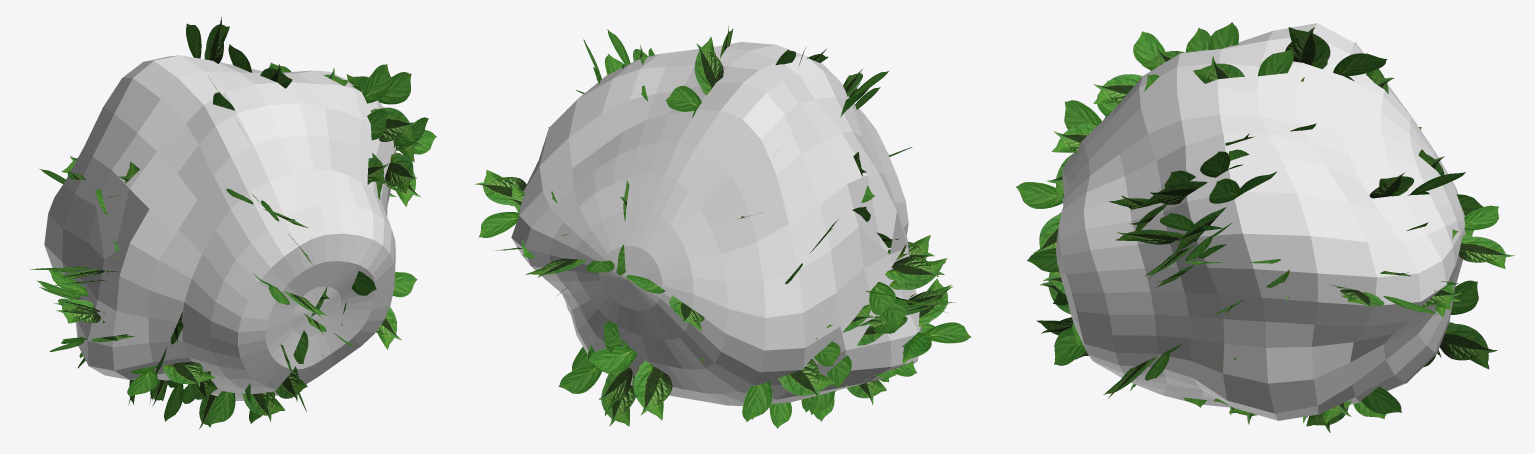
File: куст 1,3.fbx
The picture shows the model from 3 angles, left to right: view 1: azimuth 30°, elevation 25°; view 2: azimuth 150°, elevation 25°; view 3: azimuth 270°, elevation 25°; orthographic projection. The views are drawn at different scales.
Parts seen in each view (by area): view 1: Сфера, Сфера|Плоскость|Dupli|; view 2: Сфера, Сфера|Плоскость|Dupli|; view 3: Сфера, Сфера|Плоскость|Dupli|.
Boxes of the visible parts, x1,y1,x2,y2 form: Сфера: [44, 55, 395, 400]; Сфера|Плоскость|Dupli|: [30, 17, 436, 428]; Сфера: [511, 42, 921, 405]; Сфера|Плоскость|Dupli|: [475, 26, 971, 428]; Сфера: [1056, 23, 1465, 420]; Сфера|Плоскость|Dupli|: [1016, 22, 1514, 432].
Size of the model in its own units: 937 by 808 by 884.
